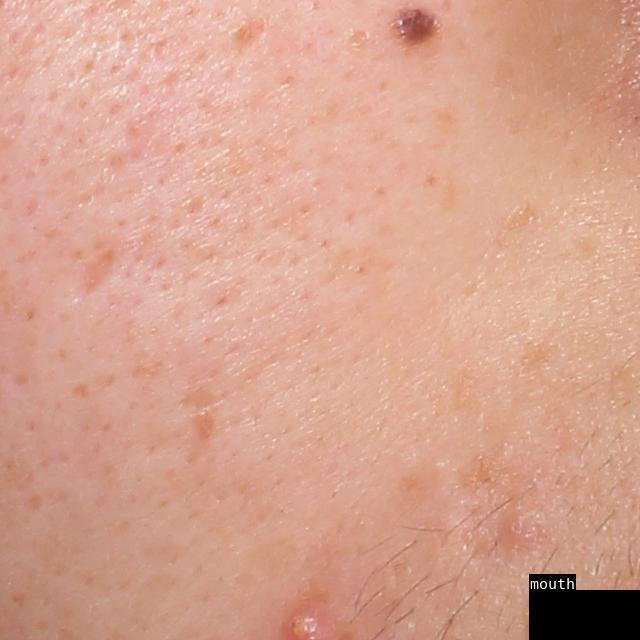atrophic_scar: (82, 247, 119, 292)
